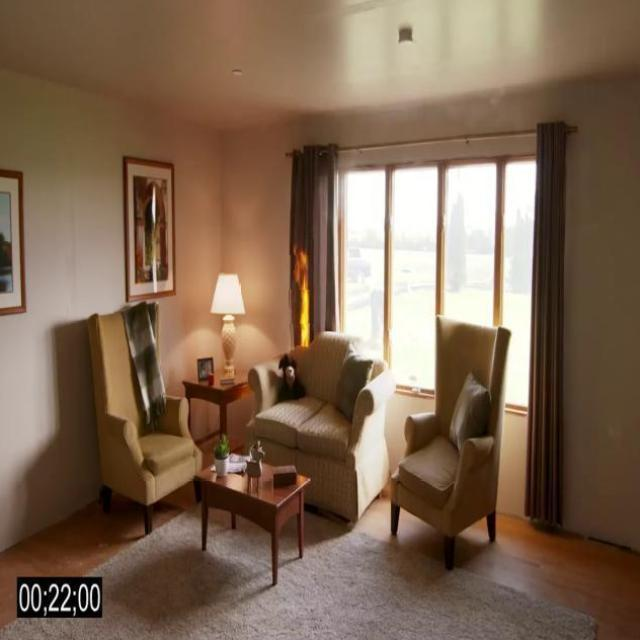smoke: (287, 237, 310, 350)
